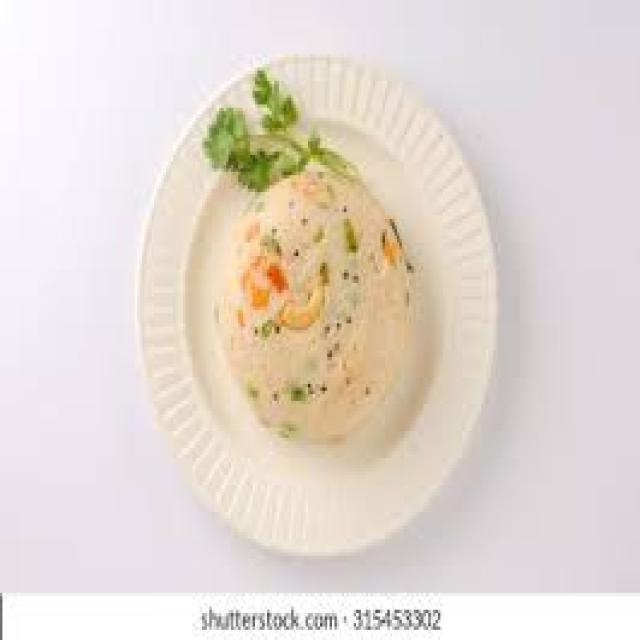UPMA: (217, 158, 407, 435)
